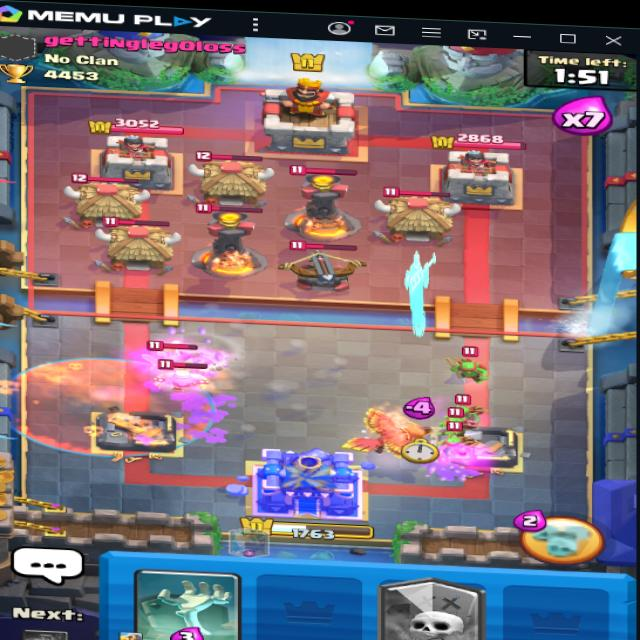Barbarian: (141, 332, 197, 366), (152, 362, 200, 399)
Goblinhut: (96, 211, 187, 272), (189, 147, 276, 208), (382, 184, 461, 244), (72, 173, 155, 227)
Infernotower: (189, 197, 284, 287), (288, 161, 359, 236)
Speargoblin: (448, 353, 488, 393), (434, 421, 470, 457), (436, 409, 473, 436), (447, 392, 479, 418)
Xbow: (279, 231, 366, 291)
